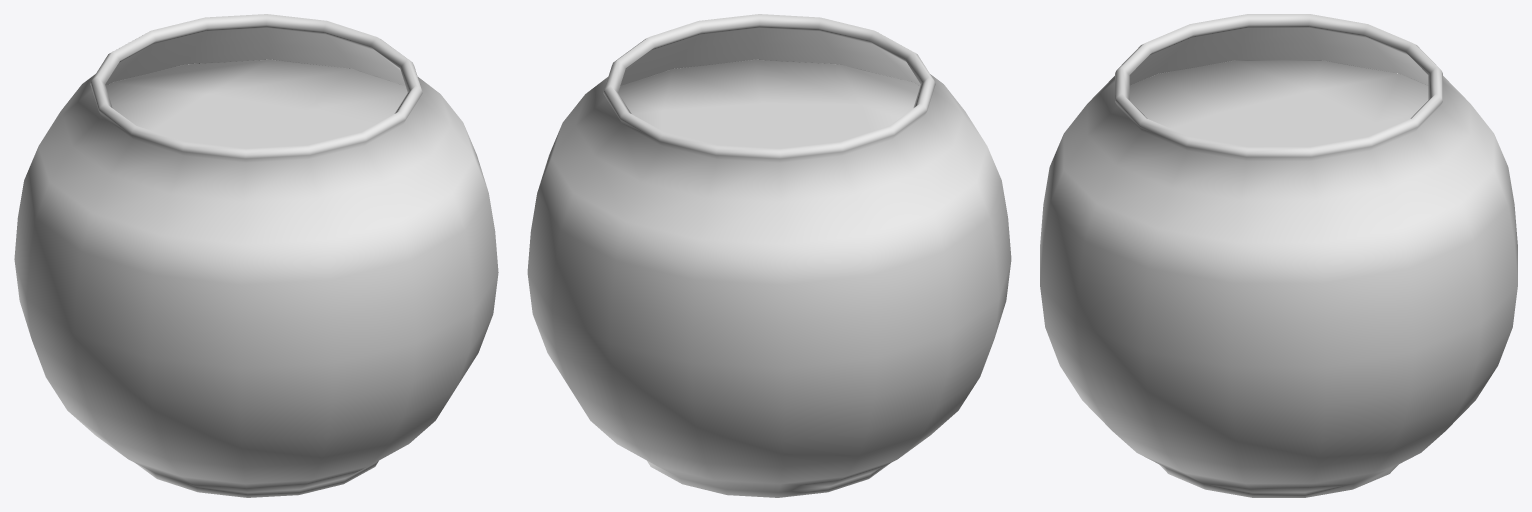
File: Aquarium.fbx
3 renders of one model, left to right at view 1: azimuth 30°, elevation 25°; view 2: azimuth 150°, elevation 25°; view 3: azimuth 270°, elevation 25°, orthographic.
Visible parts, largest first — view 1: Aquarium_f_v2; view 2: Aquarium_f_v2; view 3: Aquarium_f_v2.
Part boxes in pixels (<box>): Aquarium_f_v2: <box>14,14,498,497</box>; Aquarium_f_v2: <box>527,14,1011,497</box>; Aquarium_f_v2: <box>1040,14,1517,497</box>.
Size of the model in its own units: 0.4067 by 0.3403 by 0.4067.
